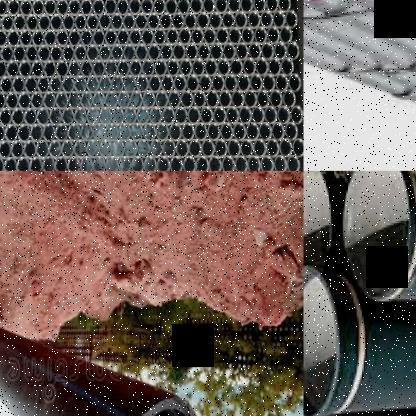pipe: (340, 171, 416, 304), (303, 262, 345, 416), (304, 171, 334, 273), (111, 396, 205, 416), (239, 138, 254, 159), (245, 121, 260, 142), (36, 138, 50, 160), (288, 105, 304, 124), (266, 26, 281, 46), (263, 105, 278, 125), (230, 89, 245, 109), (260, 41, 274, 62), (286, 40, 300, 61), (73, 138, 87, 159), (61, 138, 75, 159), (149, 138, 163, 159), (98, 138, 112, 159), (86, 138, 100, 159), (175, 138, 189, 159), (162, 138, 176, 159), (201, 138, 215, 159), (188, 138, 202, 159), (136, 138, 150, 159), (253, 138, 267, 159), (156, 121, 170, 142), (194, 121, 208, 142), (284, 121, 298, 142), (271, 121, 285, 142), (258, 121, 272, 142), (11, 106, 25, 127), (24, 106, 38, 127), (235, 42, 249, 62), (68, 28, 82, 48), (228, 26, 242, 46), (279, 25, 293, 45), (279, 138, 293, 158), (42, 122, 56, 142), (168, 122, 182, 142), (130, 122, 144, 142), (36, 106, 50, 126), (174, 106, 188, 126), (148, 106, 162, 126), (251, 106, 265, 126), (276, 105, 290, 125), (18, 91, 32, 111), (30, 91, 44, 111), (68, 90, 82, 110), (155, 90, 169, 110), (142, 90, 156, 110), (269, 89, 283, 109), (256, 89, 270, 109), (282, 89, 296, 109), (24, 75, 38, 95), (49, 74, 63, 94), (86, 74, 100, 94), (198, 74, 212, 94), (211, 74, 225, 94), (224, 74, 238, 94), (262, 73, 276, 93), (275, 73, 289, 93), (288, 72, 302, 92), (191, 58, 205, 78), (268, 57, 282, 77), (12, 44, 26, 64), (74, 43, 88, 63), (182, 121, 195, 142), (220, 121, 233, 142), (233, 121, 246, 142), (80, 90, 93, 111), (281, 57, 294, 78), (86, 13, 100, 32), (98, 107, 112, 126), (86, 107, 100, 126), (18, 60, 32, 79), (86, 44, 100, 63), (6, 90, 18, 112), (248, 42, 261, 62), (7, 28, 20, 48), (13, 13, 26, 33), (62, 12, 75, 32), (209, 10, 222, 30), (234, 10, 247, 30), (260, 10, 273, 30), (11, 140, 24, 160), (23, 140, 36, 160), (48, 139, 61, 159), (5, 123, 18, 143), (18, 123, 31, 143), (30, 122, 43, 142), (55, 122, 68, 142), (68, 122, 81, 142), (94, 122, 107, 142), (143, 122, 156, 142), (80, 122, 93, 142), (49, 106, 62, 126), (136, 106, 149, 126), (200, 106, 213, 126), (44, 90, 57, 110), (130, 90, 143, 110), (168, 90, 181, 110), (0, 76, 13, 96), (37, 75, 50, 95), (250, 73, 263, 93), (7, 60, 20, 80), (31, 60, 44, 80), (80, 59, 93, 79), (1, 44, 14, 64), (184, 12, 198, 30), (124, 138, 136, 159), (112, 138, 124, 159), (228, 138, 240, 159), (214, 138, 226, 159), (208, 121, 220, 142), (93, 90, 105, 111), (68, 60, 82, 78), (80, 28, 93, 47), (26, 13, 39, 32), (196, 11, 209, 30), (247, 11, 260, 30), (285, 10, 298, 29), (62, 44, 75, 63), (173, 42, 185, 62), (198, 42, 210, 62), (186, 42, 198, 62), (223, 42, 235, 62), (210, 42, 222, 62), (274, 42, 286, 62), (20, 28, 32, 48), (56, 28, 68, 48), (44, 28, 56, 48), (142, 27, 154, 47), (192, 26, 204, 46), (242, 26, 254, 46), (1, 13, 13, 33), (50, 12, 62, 32), (233, 155, 248, 171), (220, 155, 235, 171), (0, 140, 12, 160), (266, 138, 278, 158), (118, 122, 130, 142), (106, 122, 118, 142), (0, 106, 12, 126), (74, 106, 86, 126), (62, 106, 74, 126), (112, 106, 124, 126), (124, 106, 136, 126), (162, 106, 174, 126), (188, 106, 200, 126), (226, 106, 238, 126), (239, 105, 251, 125), (56, 90, 68, 110), (118, 90, 130, 110), (181, 89, 193, 109), (207, 89, 219, 109), (194, 89, 206, 109), (220, 89, 232, 109), (62, 74, 74, 94), (112, 74, 124, 94), (99, 74, 111, 94), (136, 74, 148, 94), (124, 74, 136, 94), (148, 74, 160, 94), (162, 74, 174, 94), (174, 74, 186, 94), (187, 74, 199, 94), (118, 58, 130, 78), (130, 58, 142, 78), (155, 58, 167, 78), (167, 58, 179, 78), (204, 58, 216, 78), (180, 58, 192, 78), (230, 58, 242, 78), (218, 58, 230, 78), (243, 57, 255, 77), (256, 57, 268, 77), (26, 44, 38, 64), (260, 154, 274, 171), (286, 154, 300, 171), (272, 154, 286, 171), (129, 28, 142, 46), (12, 76, 25, 94), (292, 137, 303, 158), (106, 90, 117, 111), (93, 28, 105, 47), (179, 27, 191, 46), (204, 27, 216, 46), (123, 12, 135, 31), (136, 12, 148, 31), (222, 11, 234, 30), (273, 10, 285, 29), (50, 44, 62, 63), (38, 44, 50, 63), (124, 43, 136, 62), (136, 43, 148, 62), (148, 43, 160, 62), (160, 43, 172, 62), (42, 155, 56, 171), (67, 155, 81, 171), (80, 155, 94, 171), (54, 155, 68, 171), (168, 155, 182, 171), (130, 155, 144, 171), (182, 155, 196, 171), (44, 0, 57, 17), (7, 0, 20, 17), (55, 0, 68, 17), (68, 0, 81, 17), (247, 154, 260, 171), (99, 12, 110, 32), (214, 106, 225, 126), (245, 89, 256, 109), (238, 74, 249, 94), (117, 28, 129, 46), (166, 28, 178, 46), (154, 28, 166, 46), (74, 14, 86, 32), (160, 12, 172, 30), (148, 12, 160, 30), (172, 12, 184, 30), (74, 76, 86, 94), (56, 60, 68, 78), (44, 60, 56, 78), (93, 60, 105, 78), (142, 59, 154, 77), (202, 0, 216, 15), (189, 0, 203, 15), (16, 156, 30, 171), (217, 27, 228, 46), (255, 26, 266, 45), (39, 13, 50, 32), (111, 12, 122, 31), (99, 44, 110, 63), (112, 43, 123, 62), (31, 0, 44, 16), (143, 155, 156, 171), (156, 155, 169, 171), (208, 155, 221, 171), (195, 155, 208, 171), (20, 0, 32, 17), (80, 0, 92, 17), (116, 0, 128, 17), (106, 58, 116, 78), (252, 0, 266, 14), (4, 156, 17, 171), (29, 156, 42, 171), (92, 0, 104, 16), (104, 0, 116, 16), (129, 0, 141, 16), (165, 0, 177, 16), (153, 0, 165, 16), (178, 0, 190, 16), (118, 155, 130, 171), (92, 155, 104, 171), (106, 155, 118, 171), (264, 0, 278, 13), (277, 0, 290, 14), (106, 28, 116, 46), (32, 30, 43, 46), (214, 0, 226, 14), (240, 0, 252, 14), (142, 0, 152, 16), (228, 0, 239, 14), (0, 28, 7, 47), (0, 90, 6, 110), (0, 0, 7, 17), (0, 60, 6, 79), (0, 123, 5, 143), (0, 156, 4, 171)
